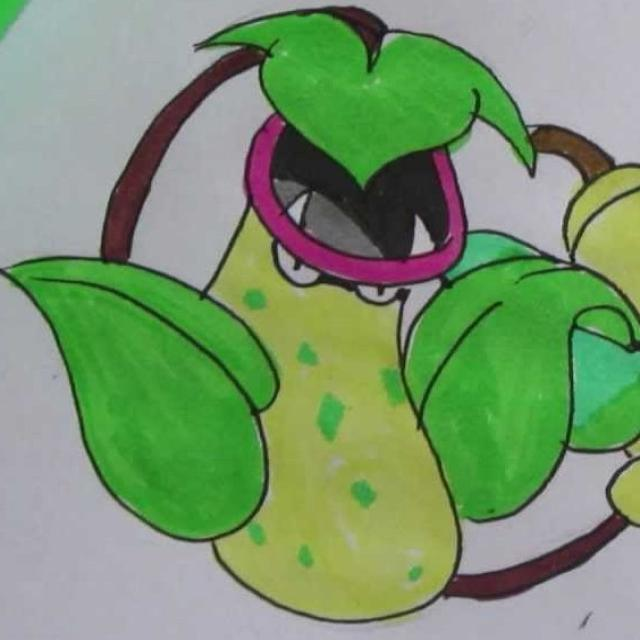Victreebel: (164, 14, 498, 622)
